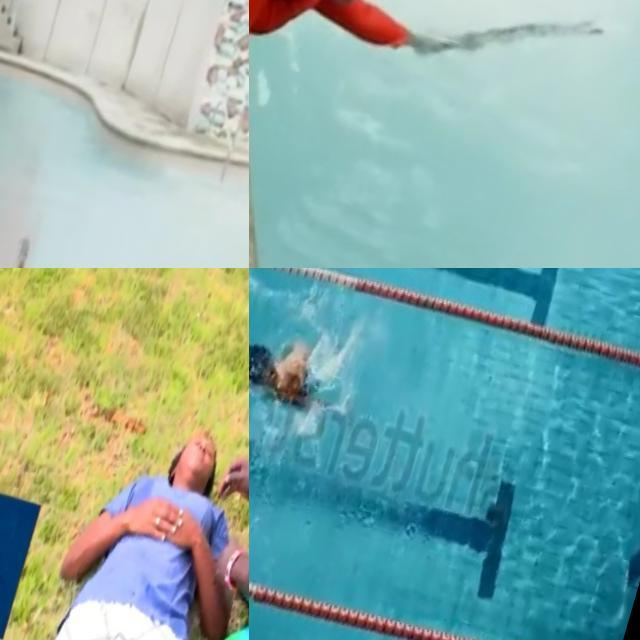Out of Water: (44, 381, 247, 640), (158, 268, 249, 640), (249, 0, 475, 126)
swimming: (249, 286, 375, 436)
